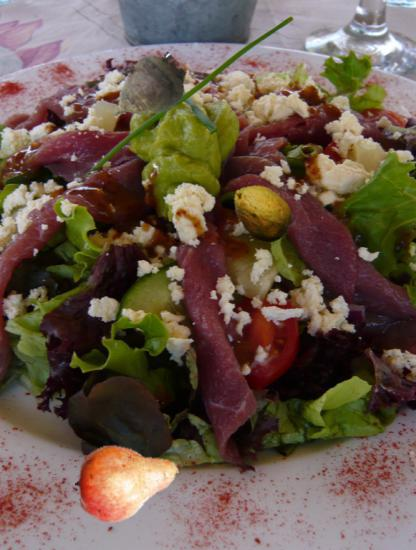Beetroot: (102, 47, 192, 137)
Papaya: (229, 179, 295, 245)
Pear: (75, 431, 180, 536)
